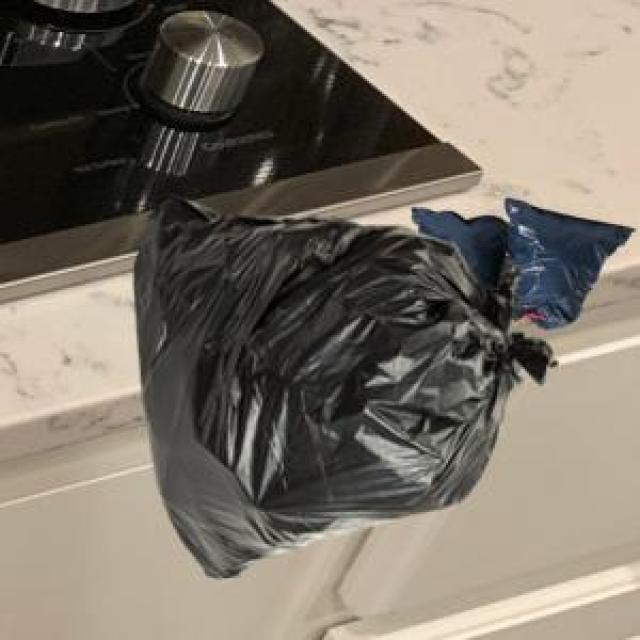Vinyl: (135, 199, 632, 577)
